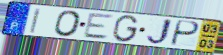E: (82, 12, 116, 40)
G: (110, 14, 140, 43)
I: (28, 7, 42, 35)
J: (145, 17, 175, 46)
O: (53, 10, 83, 38)
P: (169, 19, 201, 48)
